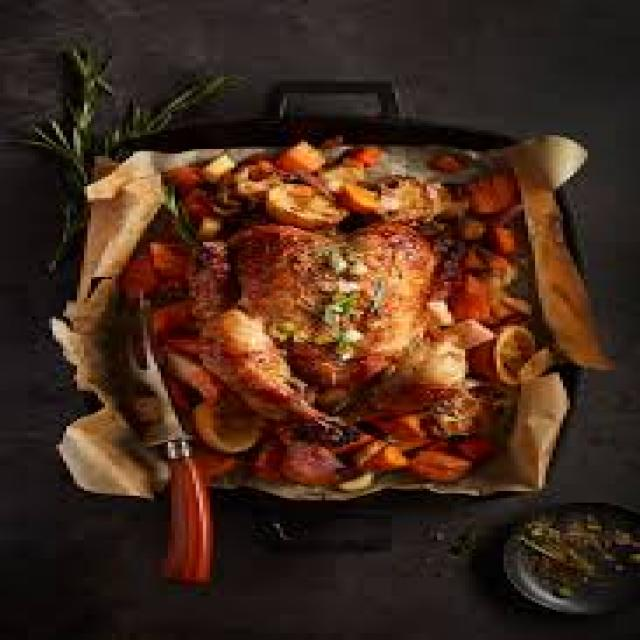organic waste: (182, 216, 444, 447), (14, 35, 234, 265), (273, 419, 343, 484), (472, 314, 542, 375), (367, 168, 451, 218), (262, 179, 350, 226), (192, 396, 262, 454), (525, 536, 584, 594), (462, 160, 511, 218), (175, 354, 238, 396), (455, 238, 514, 282), (147, 230, 196, 282), (409, 338, 469, 380), (374, 412, 437, 451), (441, 396, 496, 440), (147, 294, 192, 344), (245, 433, 290, 482), (115, 258, 161, 305), (332, 177, 385, 216), (402, 447, 465, 479), (350, 435, 406, 470), (448, 270, 490, 316), (273, 140, 322, 172), (154, 158, 199, 189), (346, 179, 388, 212), (200, 149, 248, 177), (444, 314, 486, 345), (440, 435, 490, 461), (528, 514, 595, 533), (441, 207, 486, 235), (346, 147, 399, 170), (217, 168, 252, 202), (182, 209, 227, 233), (314, 158, 356, 182), (168, 191, 210, 214), (238, 158, 287, 177), (206, 447, 238, 475), (490, 216, 518, 247), (336, 463, 370, 487), (594, 547, 636, 563), (595, 528, 633, 545)
